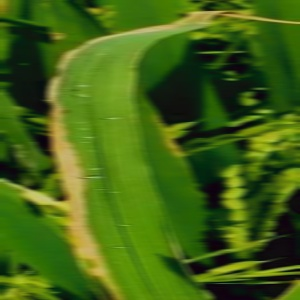Leaf_Blast: (54, 48, 153, 281)
